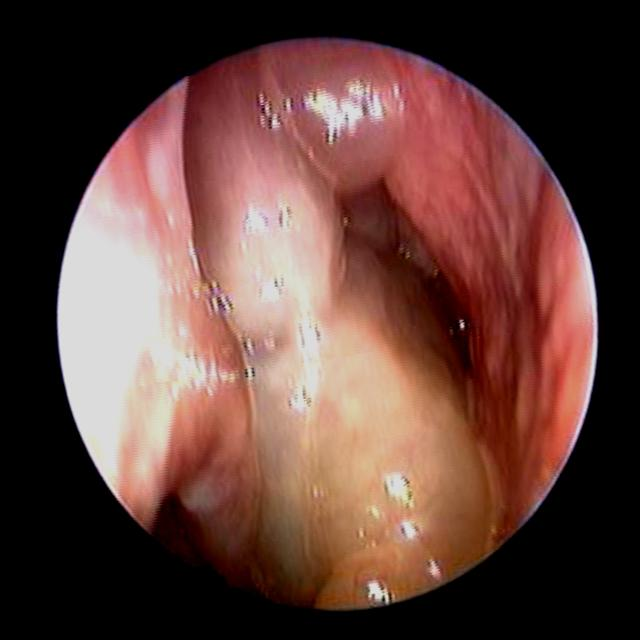OPENING: (114, 486, 168, 612)
POLYPS: (255, 259, 501, 603), (178, 78, 331, 315)
